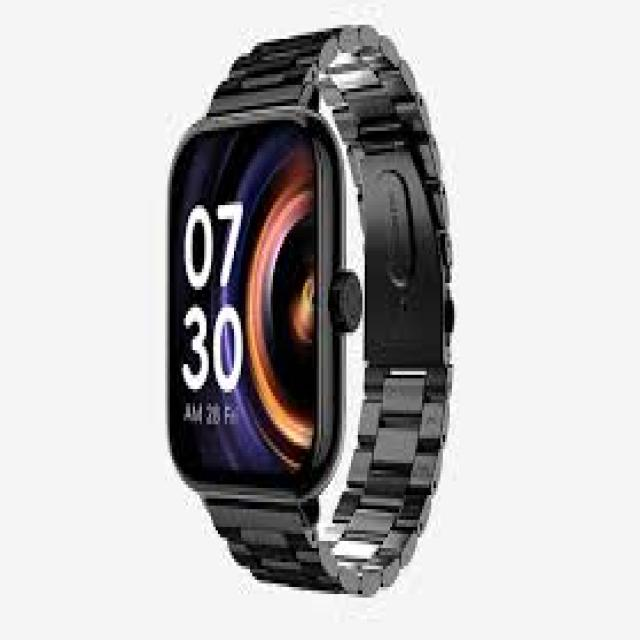objects: (167, 19, 456, 602)
